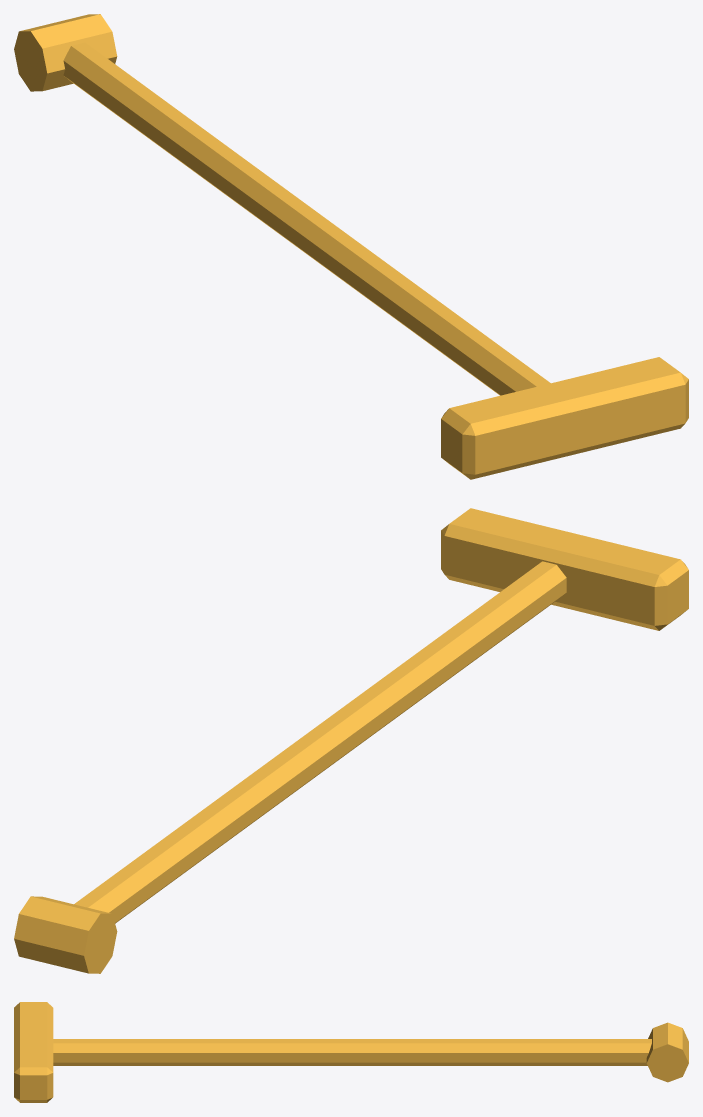
Rendered from hand_pump_lever.glb.
3 renders of one model, top to bottom at view 1: azimuth 30°, elevation 25°; view 2: azimuth 150°, elevation 25°; view 3: azimuth 270°, elevation 25°, orthographic. The views are drawn at different scales.
Parts seen in each view (by area): view 1: HandPumpLever; view 2: HandPumpLever; view 3: HandPumpLever.
Boxes of the visible parts, box(x1,y1,x2,y2) form: HandPumpLever: box(14, 14, 688, 479); HandPumpLever: box(14, 508, 688, 973); HandPumpLever: box(14, 1002, 688, 1102).
Size of the model in its own units: 0.11 by 0.028 by 0.447.
